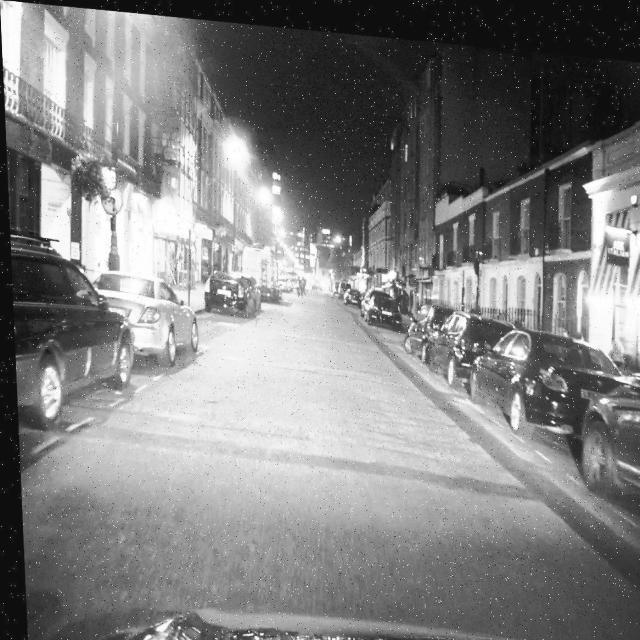Car: (10, 245, 132, 419), (466, 321, 614, 440), (91, 271, 201, 368), (583, 372, 640, 491)
Truck: (238, 241, 278, 298)
